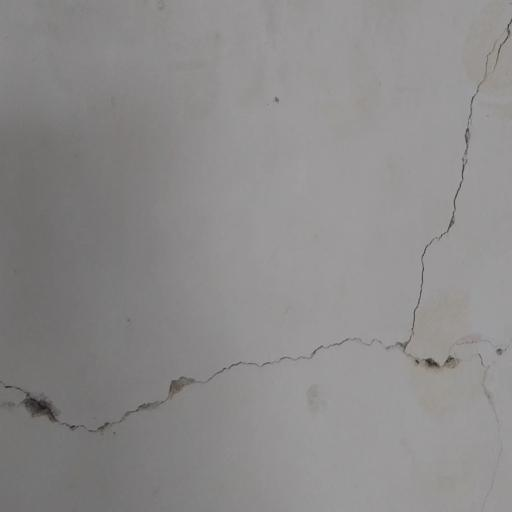major_crack: (393, 3, 512, 504), (3, 330, 409, 436)
